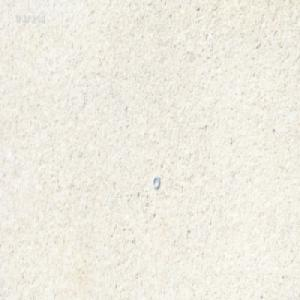Washer: (152, 175, 160, 190)
